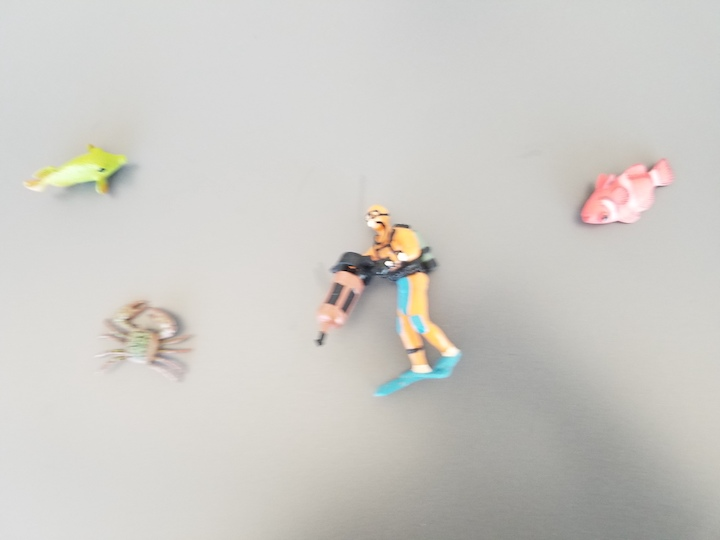crab: (90, 298, 196, 389)
diver: (309, 202, 471, 400)
fish: (577, 158, 674, 229), (20, 142, 129, 201)
